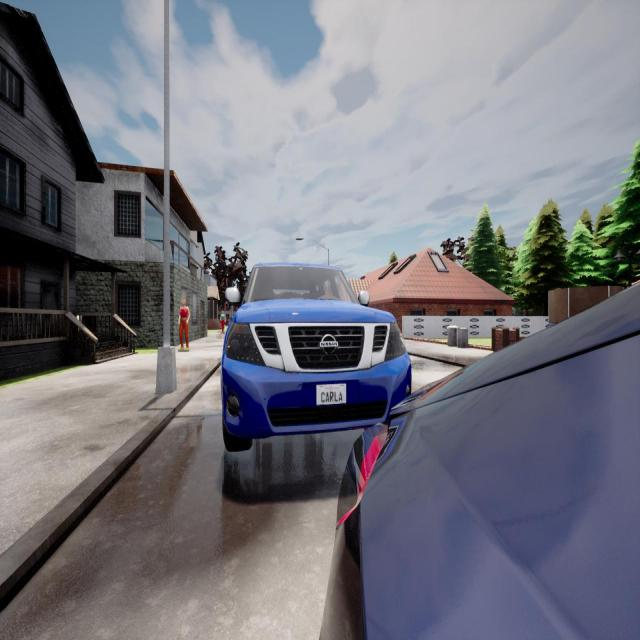Pedestrian: (178, 300, 190, 351), (221, 308, 225, 334)
Vehicle: (320, 284, 640, 638), (223, 264, 411, 451)
